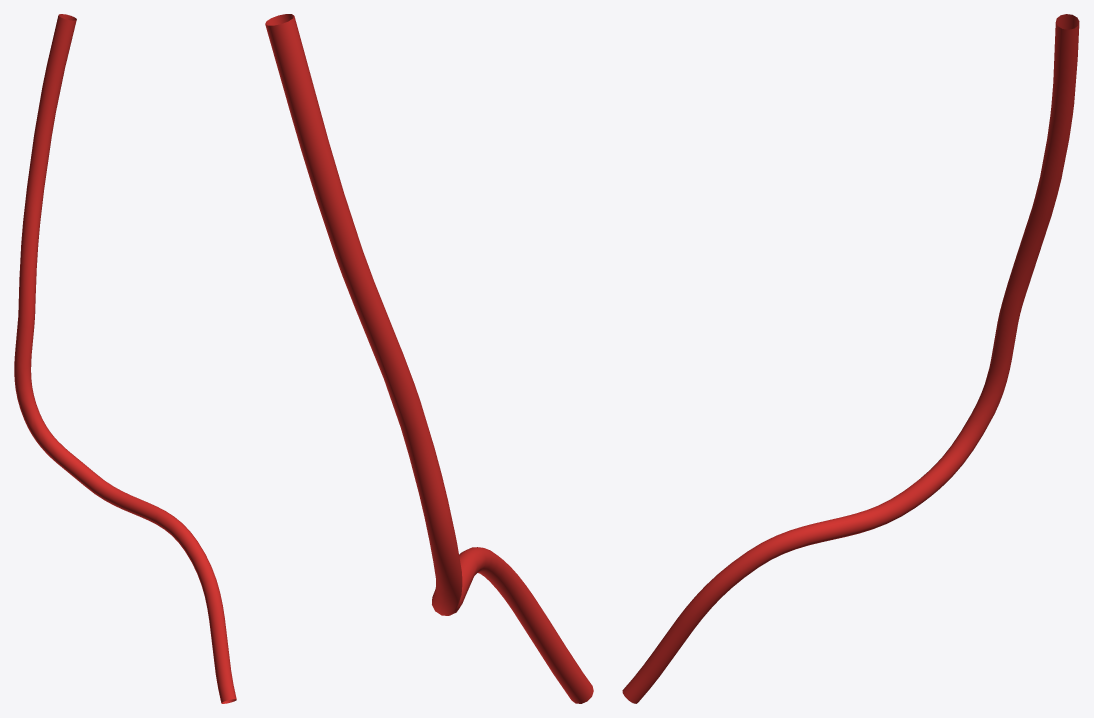
File: circulatorio-recurrent-interosseous-artery-r.glb
3 views of the same model, side by side, from view 1: azimuth 30°, elevation 25°; view 2: azimuth 150°, elevation 25°; view 3: azimuth 270°, elevation 25° (orthographic). The views are drawn at different scales.
Visible parts, largest first — view 1: Recurrent interosseous artery.r; view 2: Recurrent interosseous artery.r; view 3: Recurrent interosseous artery.r.
Part boxes in pixels (bbox=[...]): Recurrent interosseous artery.r: bbox=[14, 14, 236, 703]; Recurrent interosseous artery.r: bbox=[265, 14, 593, 703]; Recurrent interosseous artery.r: bbox=[622, 14, 1079, 703].
Size of the model in its own units: 0.0132 by 0.0799 by 0.0478.
